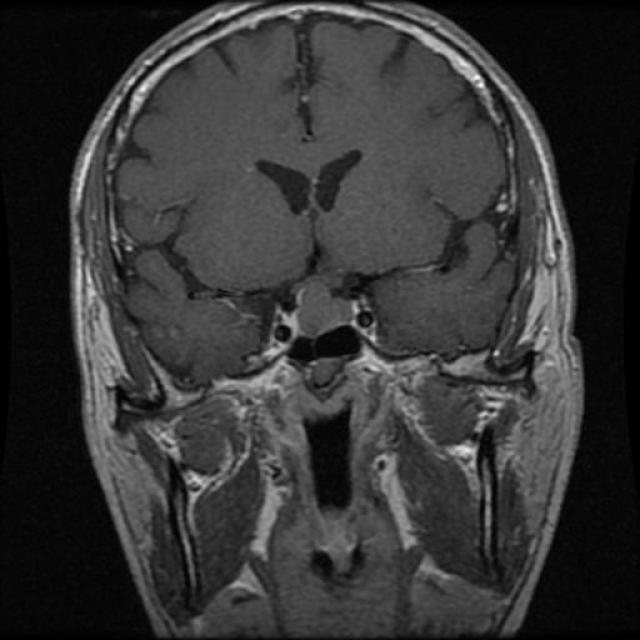brain_tumor: (294, 270, 372, 346)
